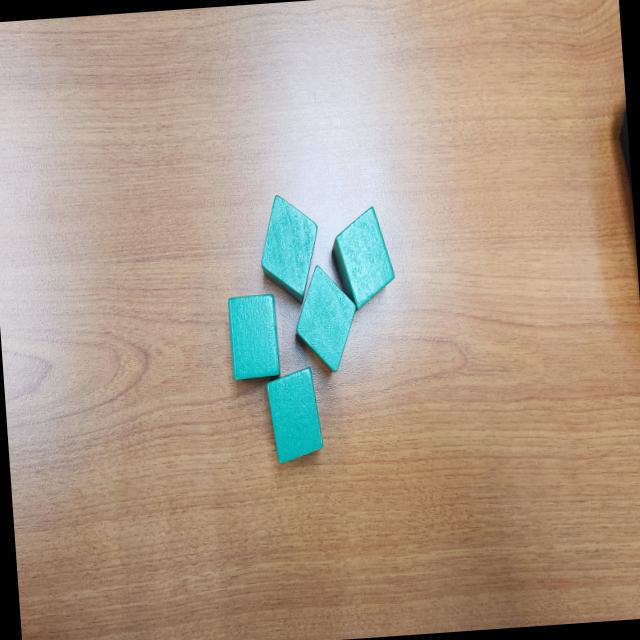green: (292, 262, 363, 374), (256, 191, 324, 306), (328, 204, 397, 310), (266, 364, 324, 462), (226, 292, 282, 382)
